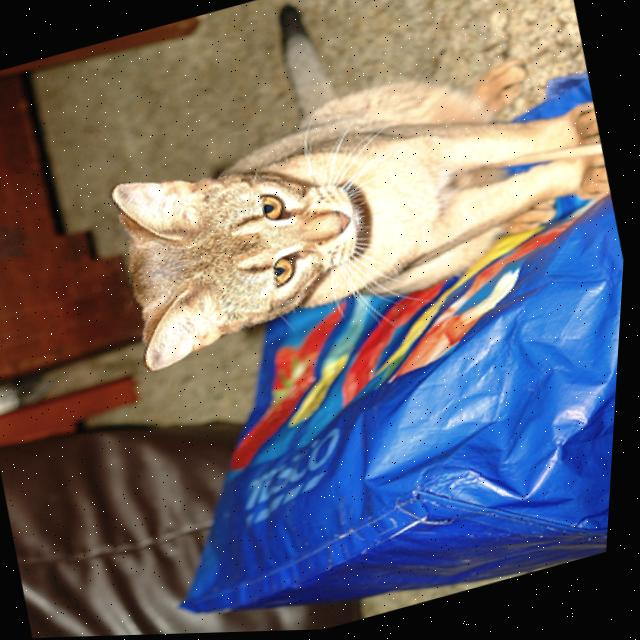Abyssinian: (60, 0, 636, 382)
